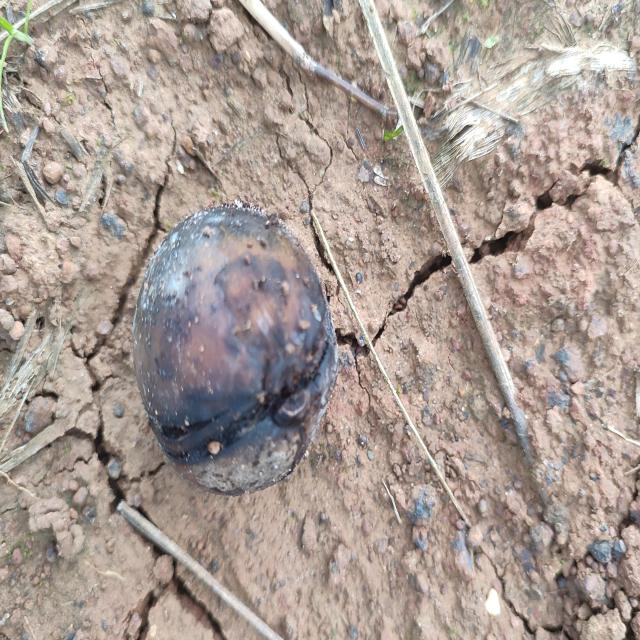damaged: (129, 205, 338, 497)
